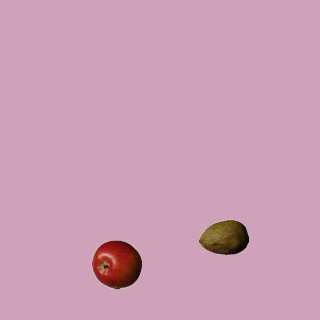Apple Braeburn: (91, 239, 141, 289)
Papaya: (198, 212, 248, 262)
